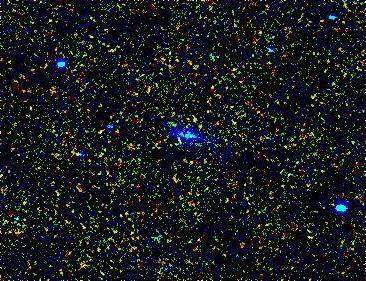star: (157, 109, 187, 139)
